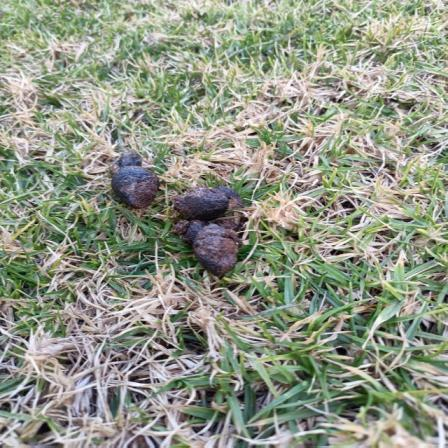dog-poop: (173, 179, 249, 268), (105, 150, 165, 206)
